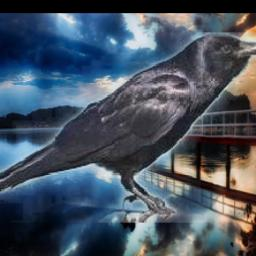Crow: (0, 32, 256, 223)
